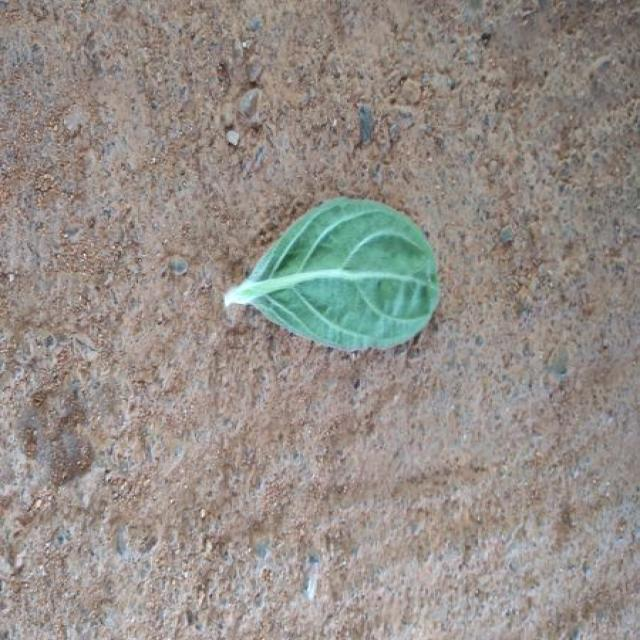globe amarnath: (225, 198, 438, 349)
